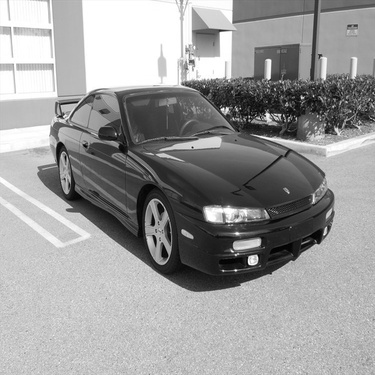car: (43, 79, 334, 280)
